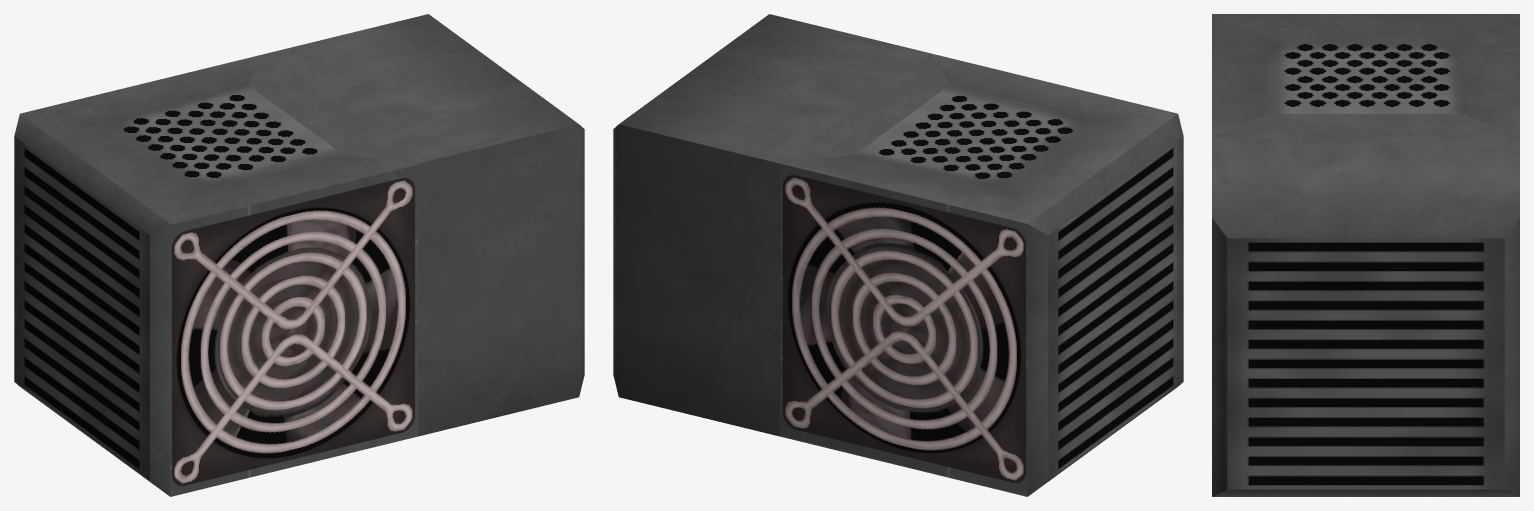
File: AcUnit1.fbx
3 renders of one model, left to right at view 1: azimuth 30°, elevation 25°; view 2: azimuth 150°, elevation 25°; view 3: azimuth 270°, elevation 25°, orthographic. The views are drawn at different scales.
Visible parts, largest first — view 1: Cube; view 2: Cube; view 3: Cube.
Part boxes in pixels (<box>): Cube: <box>14,14,584,496</box>; Cube: <box>613,14,1183,496</box>; Cube: <box>1212,14,1519,496</box>.
Size of the model in its own units: 2 by 1.2 by 1.2.
